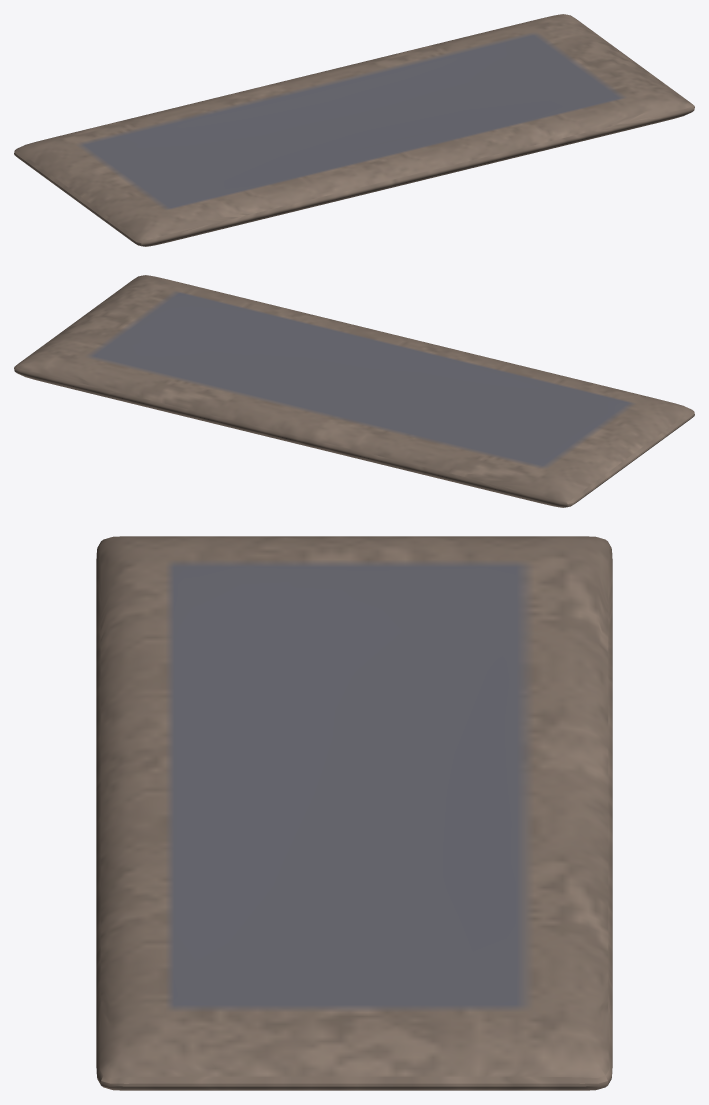
Rendered from rug.fbx.
The picture shows the model from 3 angles, top to bottom: view 1: azimuth 30°, elevation 25°; view 2: azimuth 150°, elevation 25°; view 3: azimuth 270°, elevation 25°; orthographic projection. The views are drawn at different scales.
Visible parts, largest first — view 1: Cube.375; view 2: Cube.375; view 3: Cube.375.
Part boxes in pixels (bbox=[...]): Cube.375: bbox=[14, 14, 694, 246]; Cube.375: bbox=[14, 275, 694, 507]; Cube.375: bbox=[96, 536, 612, 1090].
Size of the model in its own units: 250 by 9.89 by 100.
